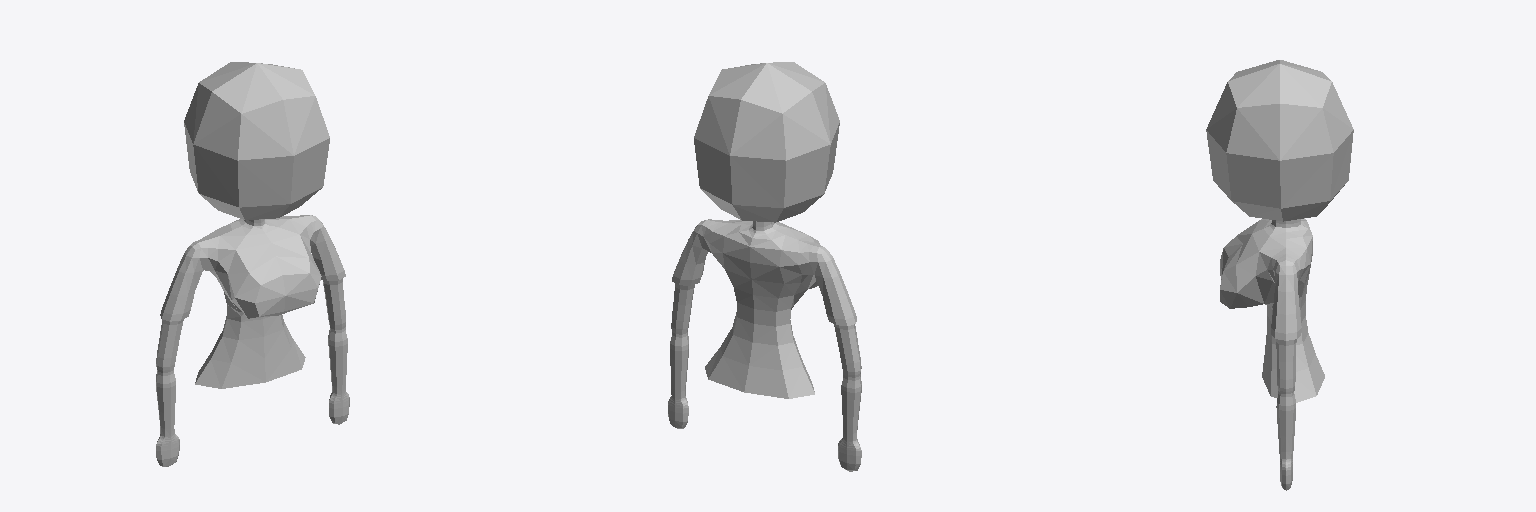
The model's file is нютя(w).obj.
3 views of the same model, side by side, from view 1: azimuth 30°, elevation 25°; view 2: azimuth 150°, elevation 25°; view 3: azimuth 270°, elevation 25° (orthographic).
Parts seen in each view (by area): view 1: Cube.002; view 2: Cube.002; view 3: Cube.002.
Boxes of the visible parts, <box> form: Cube.002: <box>156,62,349,466</box>; Cube.002: <box>668,62,861,471</box>; Cube.002: <box>1206,60,1353,490</box>.
Size of the model in its own units: 0.7035 by 1.34 by 0.4645.